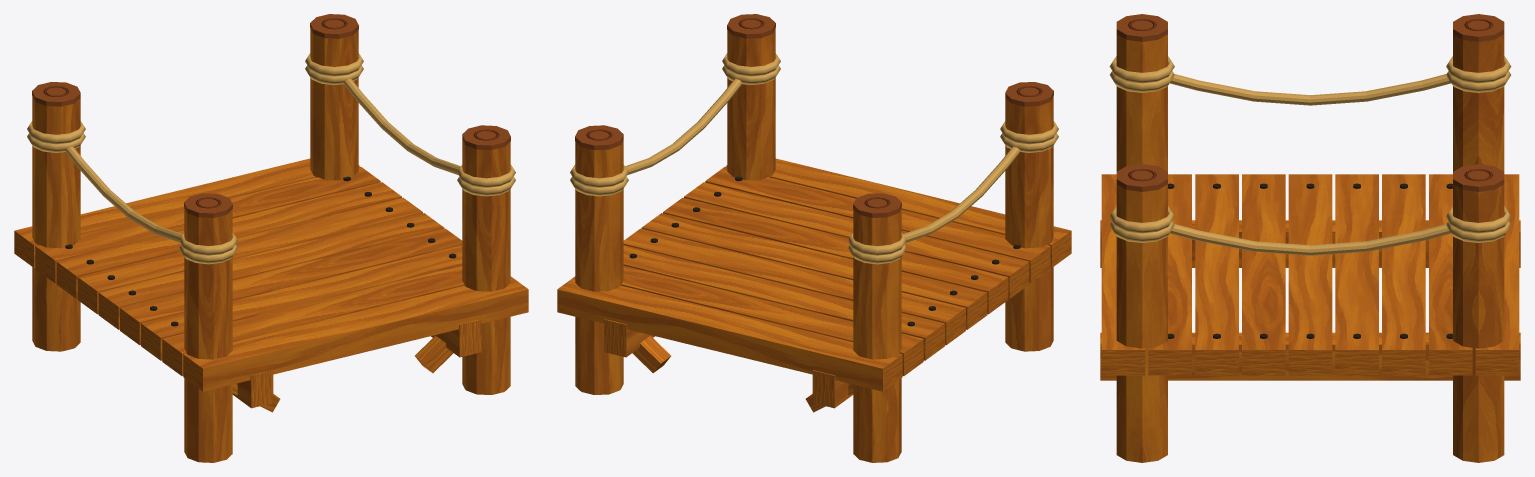
The model's file is wooden-pier.obj.
The picture shows the model from 3 angles, left to right: view 1: azimuth 30°, elevation 25°; view 2: azimuth 150°, elevation 25°; view 3: azimuth 270°, elevation 25°; orthographic projection. The views are drawn at different scales.
Parts seen in each view (by area): view 1: wooden-pier; view 2: wooden-pier; view 3: wooden-pier.
Boxes of the visible parts, bbox=[...] form: wooden-pier: bbox=[14, 14, 528, 462]; wooden-pier: bbox=[557, 14, 1071, 462]; wooden-pier: bbox=[1100, 14, 1520, 462].
Size of the model in its own units: 1.8 by 1.31 by 1.8.
2 materials, 2 textured.
